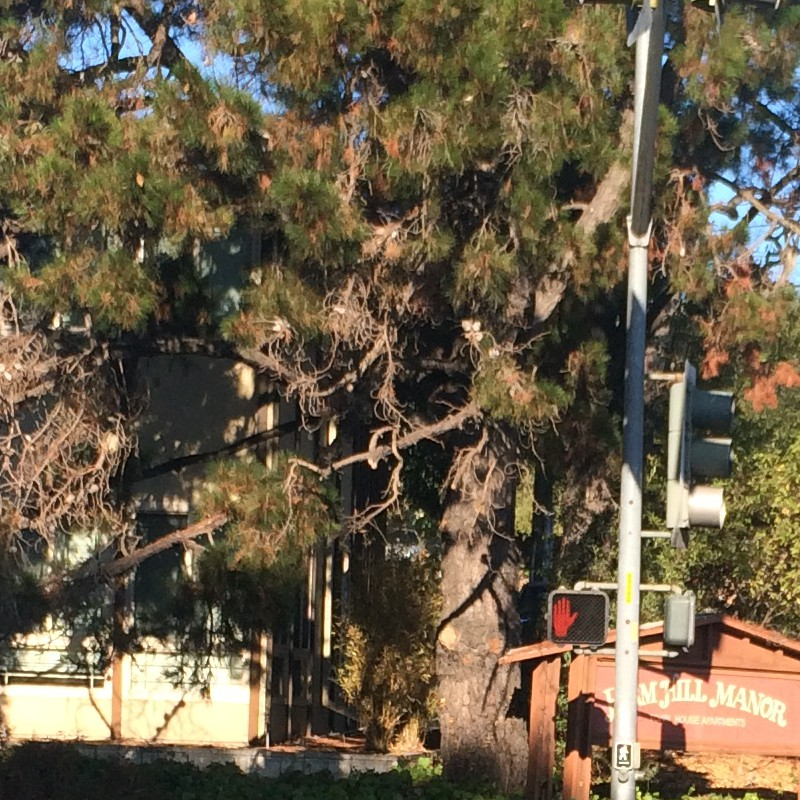stop: (543, 587, 612, 654)
